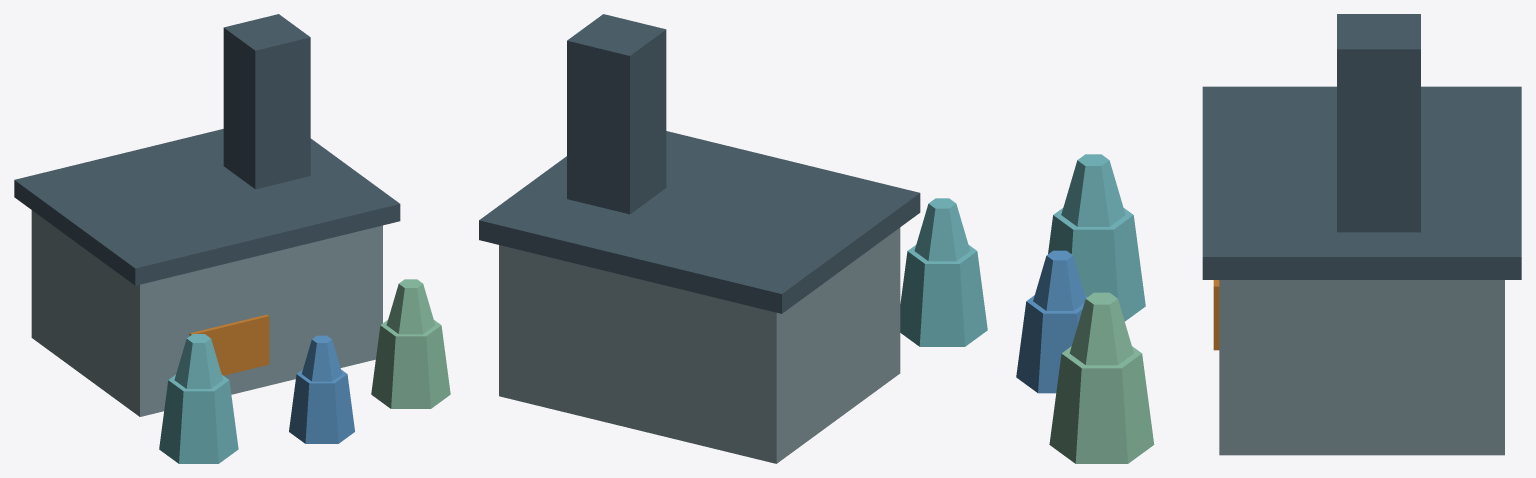
Rendered from glassworks.glb.
3 views of the same model, side by side, from view 1: azimuth 30°, elevation 25°; view 2: azimuth 150°, elevation 25°; view 3: azimuth 270°, elevation 25° (orthographic). The views are drawn at different scales.
Visible parts, largest first — view 1: glassworks; view 2: glassworks; view 3: glassworks.
Part boxes in pixels (<box>): glassworks: <box>14,14,450,463</box>; glassworks: <box>479,14,987,463</box>; glassworks: <box>1016,14,1521,463</box>.
Bounding box in the file's own units: 0.249 × 0.255 × 0.301.
